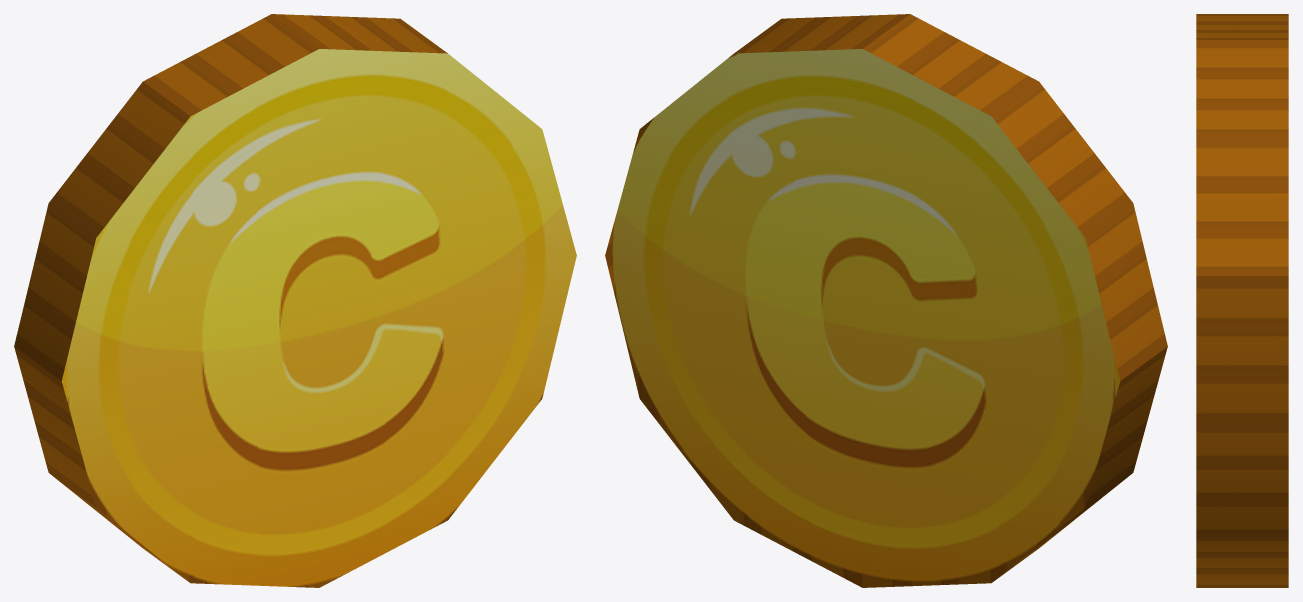
The model's file is coin.fbx.
The picture shows the model from 3 angles, left to right: view 1: azimuth 30°, elevation 25°; view 2: azimuth 150°, elevation 25°; view 3: azimuth 270°, elevation 25°; orthographic projection. The views are drawn at different scales.
Visible parts, largest first — view 1: Cylinder.031; view 2: Cylinder.031; view 3: Cylinder.031.
Part boxes in pixels (x1,y1,x2,y2): Cylinder.031: (14, 14, 576, 587); Cylinder.031: (605, 14, 1167, 587); Cylinder.031: (1196, 14, 1288, 587).
Bounding box in the file's own units: 0.4039 × 0.4039 × 0.0647.
